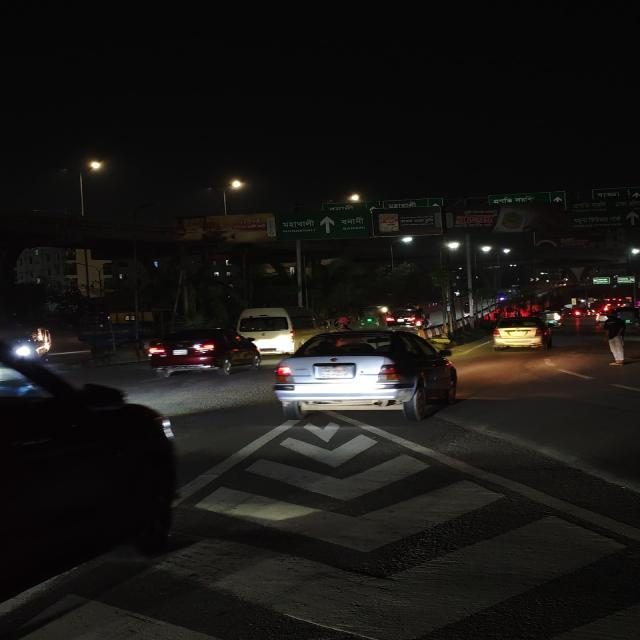car: (269, 328, 462, 423), (142, 326, 262, 380), (233, 306, 328, 348), (486, 315, 558, 354), (387, 309, 421, 327)
cng: (355, 305, 386, 329), (542, 310, 565, 328)
motorcycle: (572, 306, 584, 320)
pedestrian: (596, 311, 631, 367)
